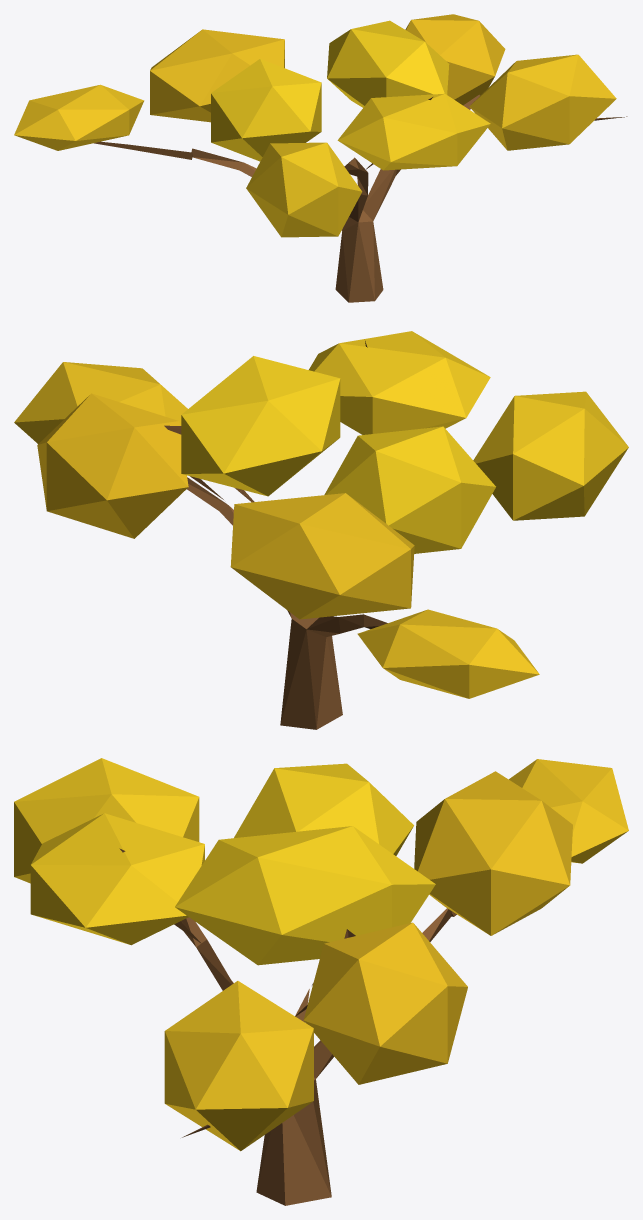
The model's file is guayacan_4_bloom_far.glb.
3 renders of one model, top to bottom at view 1: azimuth 30°, elevation 25°; view 2: azimuth 150°, elevation 25°; view 3: azimuth 270°, elevation 25°, orthographic. The views are drawn at different scales.
Visible parts, largest first — view 1: guayacan_4_bloom_far; view 2: guayacan_4_bloom_far; view 3: guayacan_4_bloom_far.
Part boxes in pixels (<box>): guayacan_4_bloom_far: <box>14,14,627,302</box>; guayacan_4_bloom_far: <box>14,331,628,729</box>; guayacan_4_bloom_far: <box>14,758,628,1205</box>.
Size of the model in its own units: 11.63 by 5.6 by 8.37.
